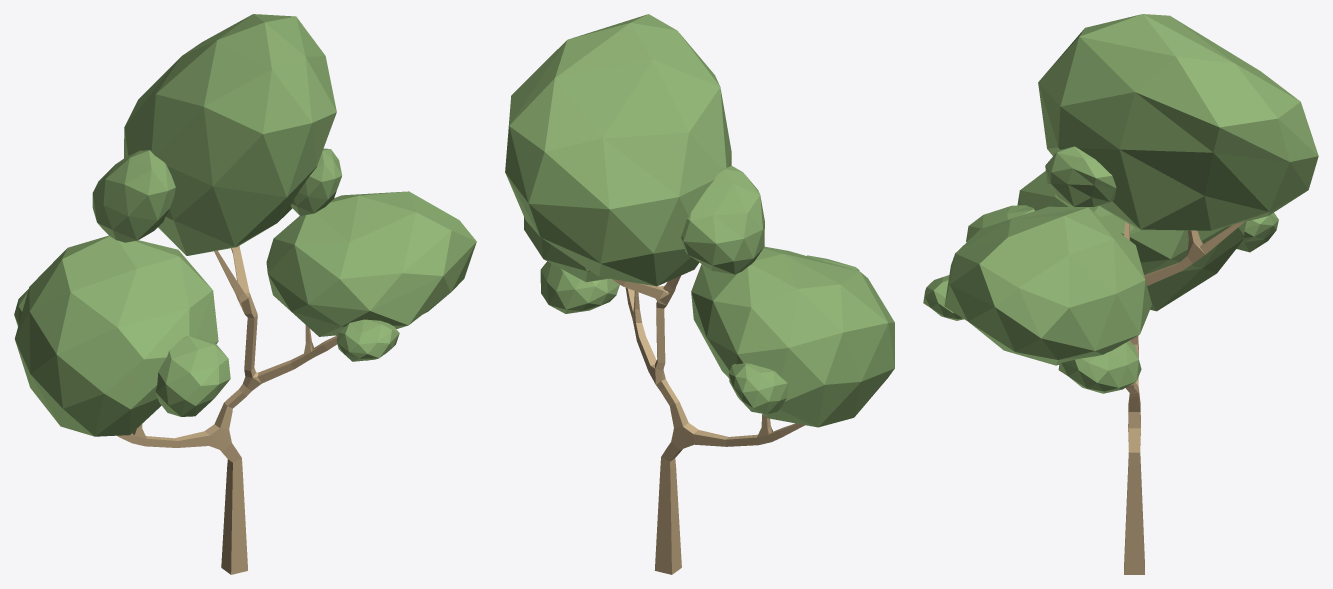
File: Tree_07.fbx
3 views of the same model, side by side, from view 1: azimuth 30°, elevation 25°; view 2: azimuth 150°, elevation 25°; view 3: azimuth 270°, elevation 25° (orthographic). The views are drawn at different scales.
Parts seen in each view (by area): view 1: Tree_7.001; view 2: Tree_7.001; view 3: Tree_7.001.
Part boxes in pixels (bbox=[...]): Tree_7.001: bbox=[14, 14, 476, 574]; Tree_7.001: bbox=[505, 14, 894, 574]; Tree_7.001: bbox=[923, 14, 1318, 574].
Size of the model in its own units: 2933 by 3901 by 2435.
